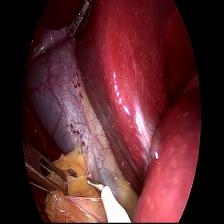Grasper: (23, 134, 69, 202), (61, 2, 94, 46)
Hook: (86, 177, 132, 224)
